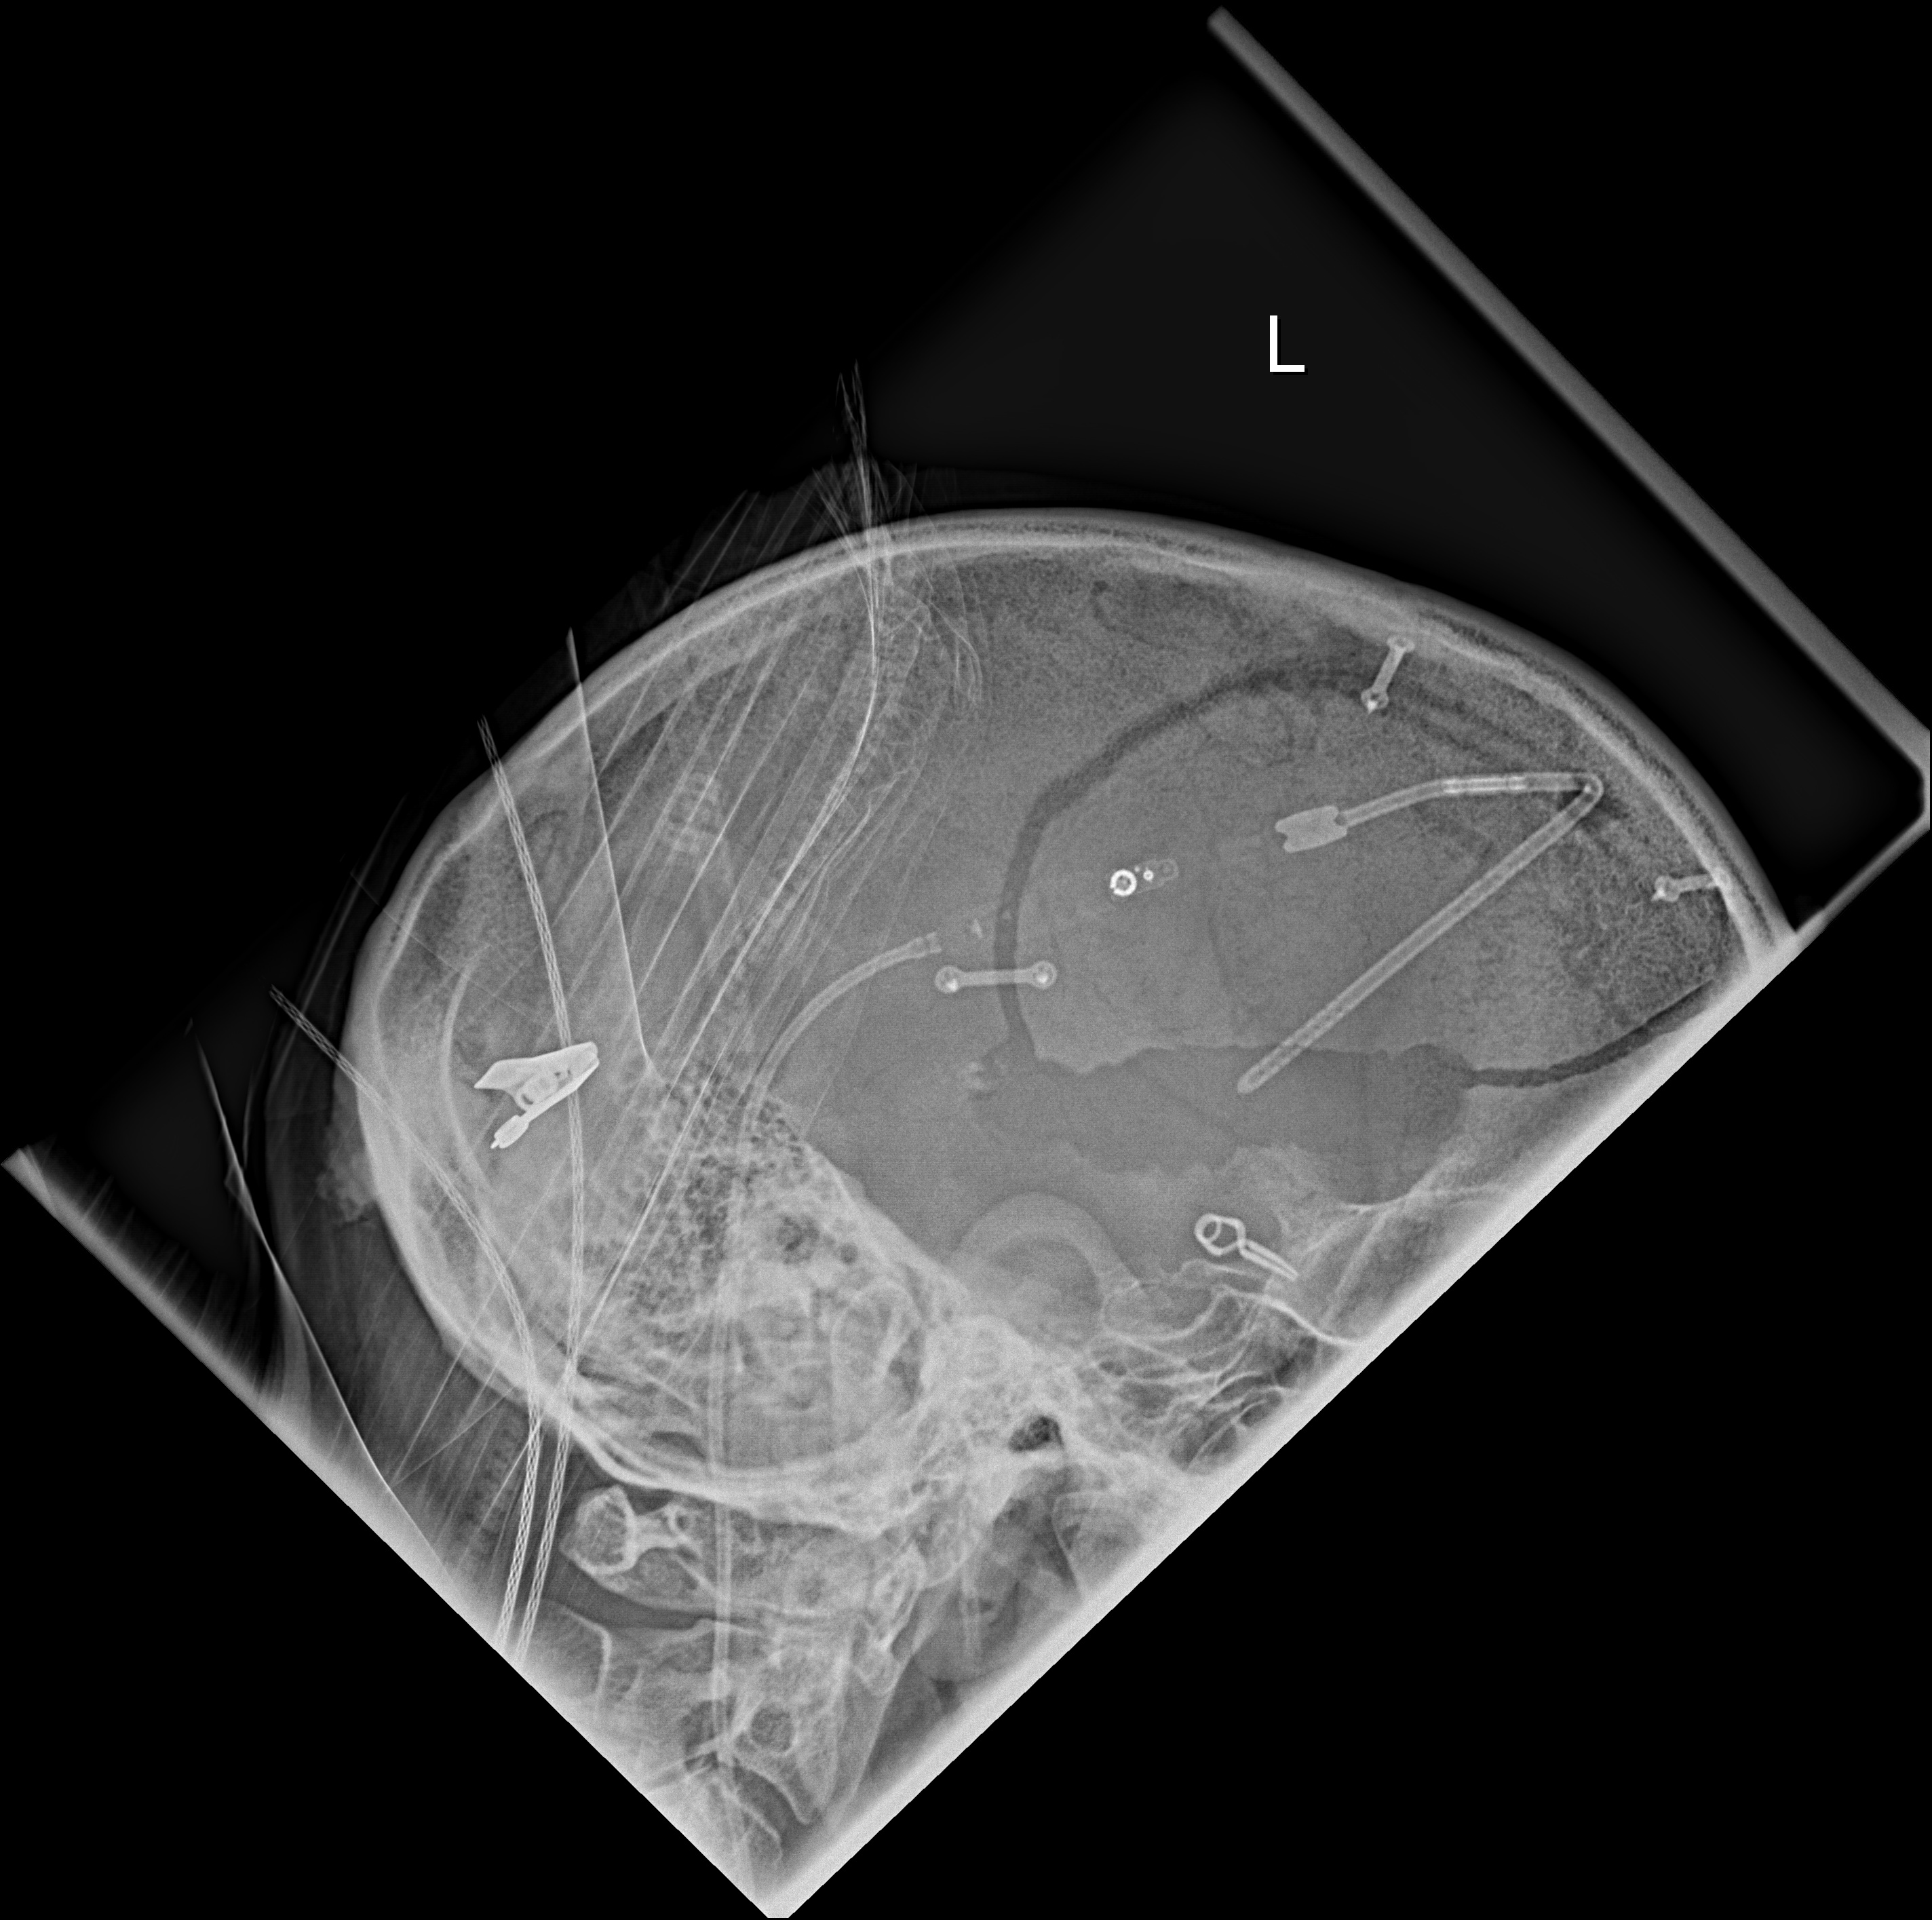Codman Hakim: (1102, 856, 1178, 914)
